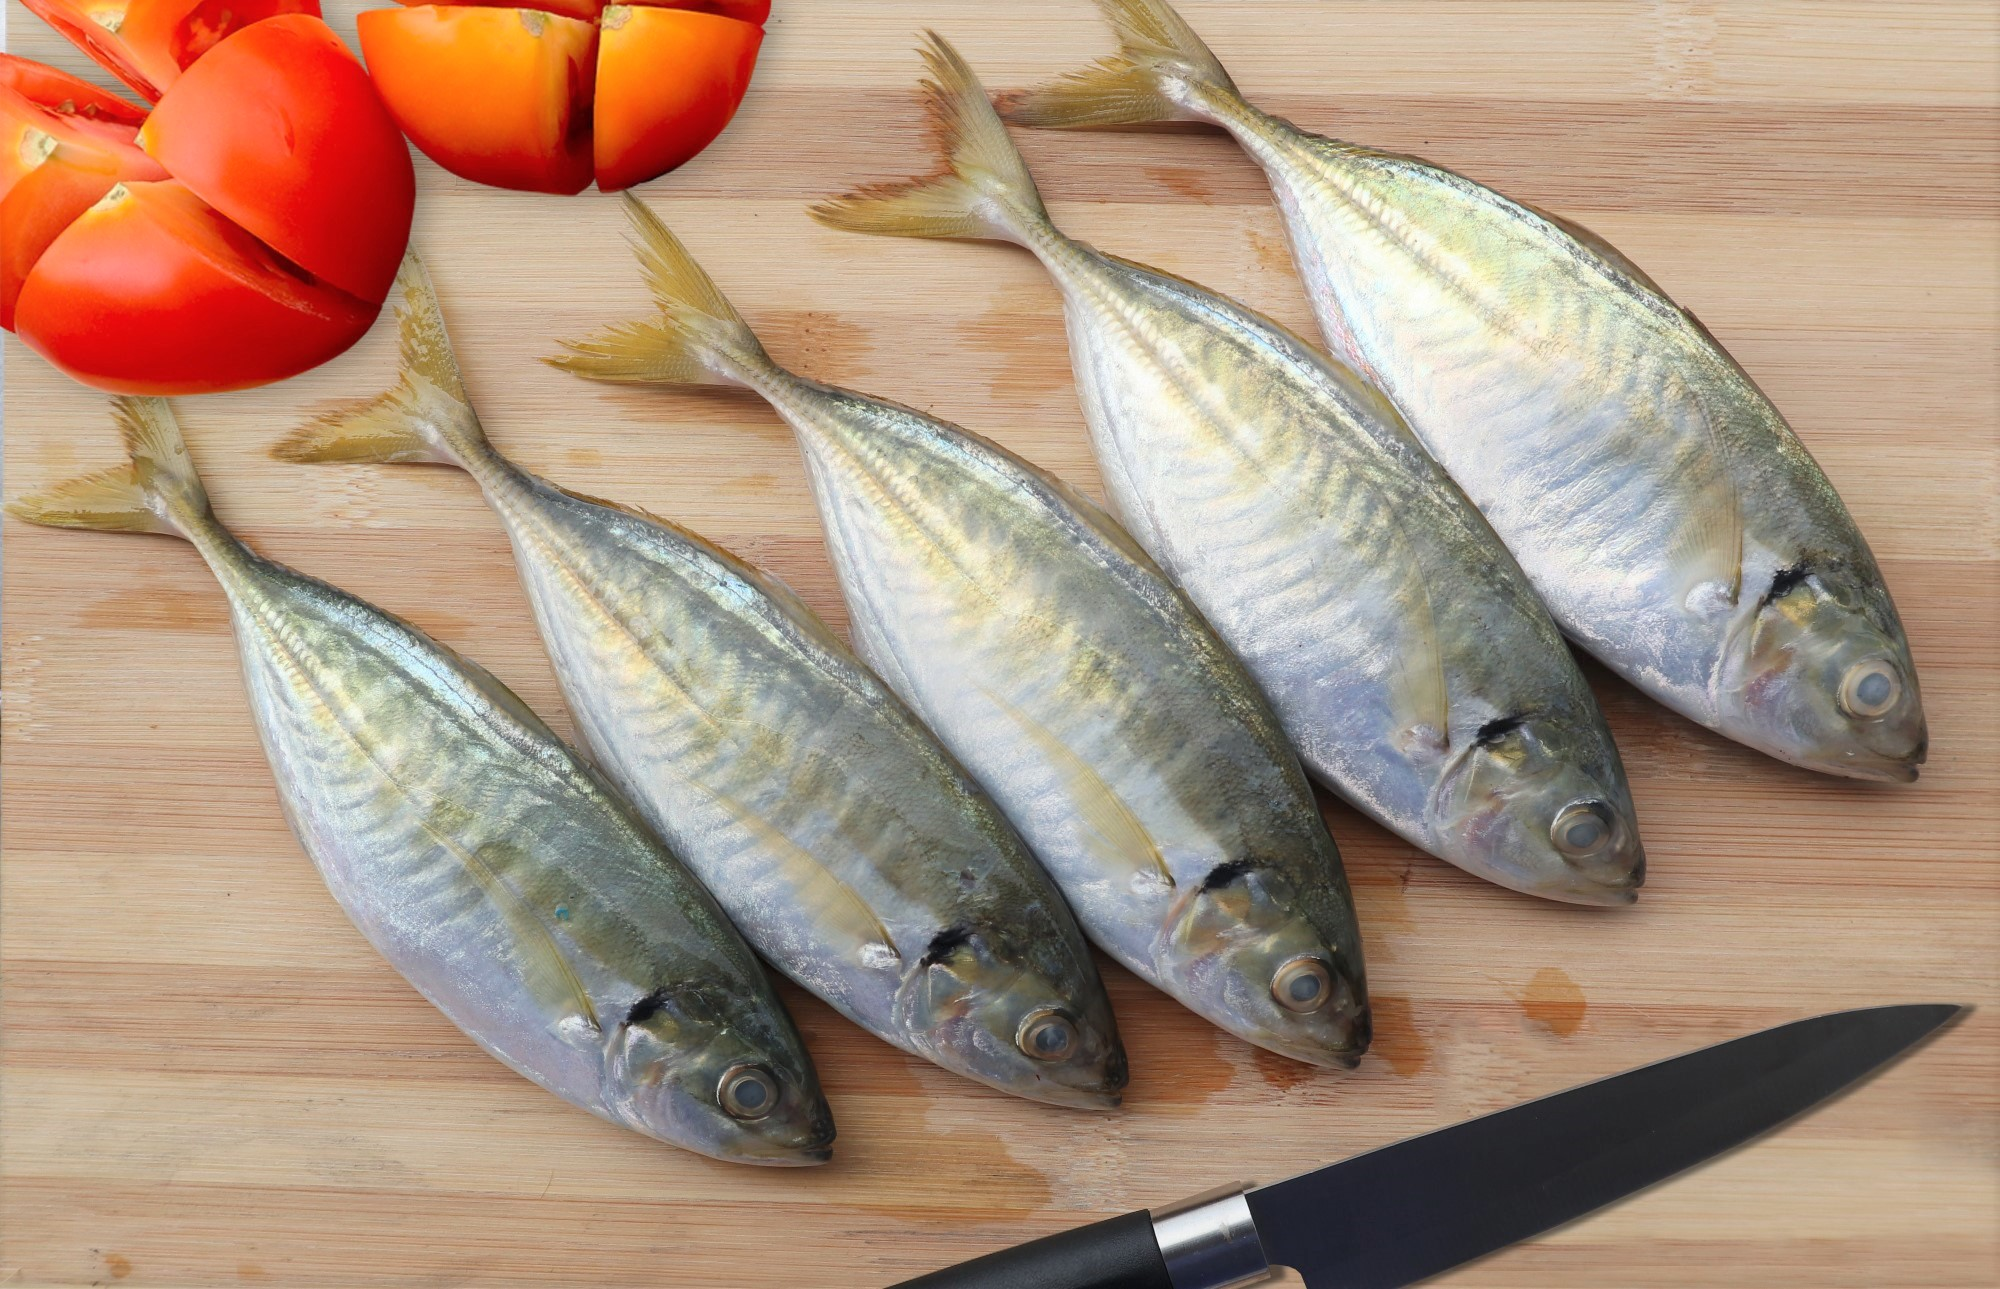Ikan Selar: (563, 311, 1410, 1121), (1168, 47, 1959, 809), (948, 227, 1676, 943), (117, 491, 844, 1199)
